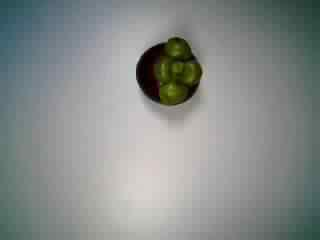mangosteen: (130, 33, 204, 107)
